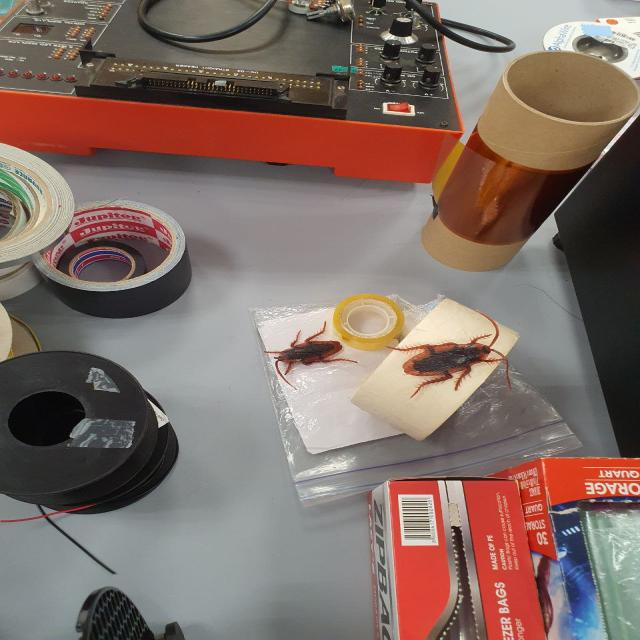Cockroach: (384, 309, 525, 394), (255, 312, 361, 382)
